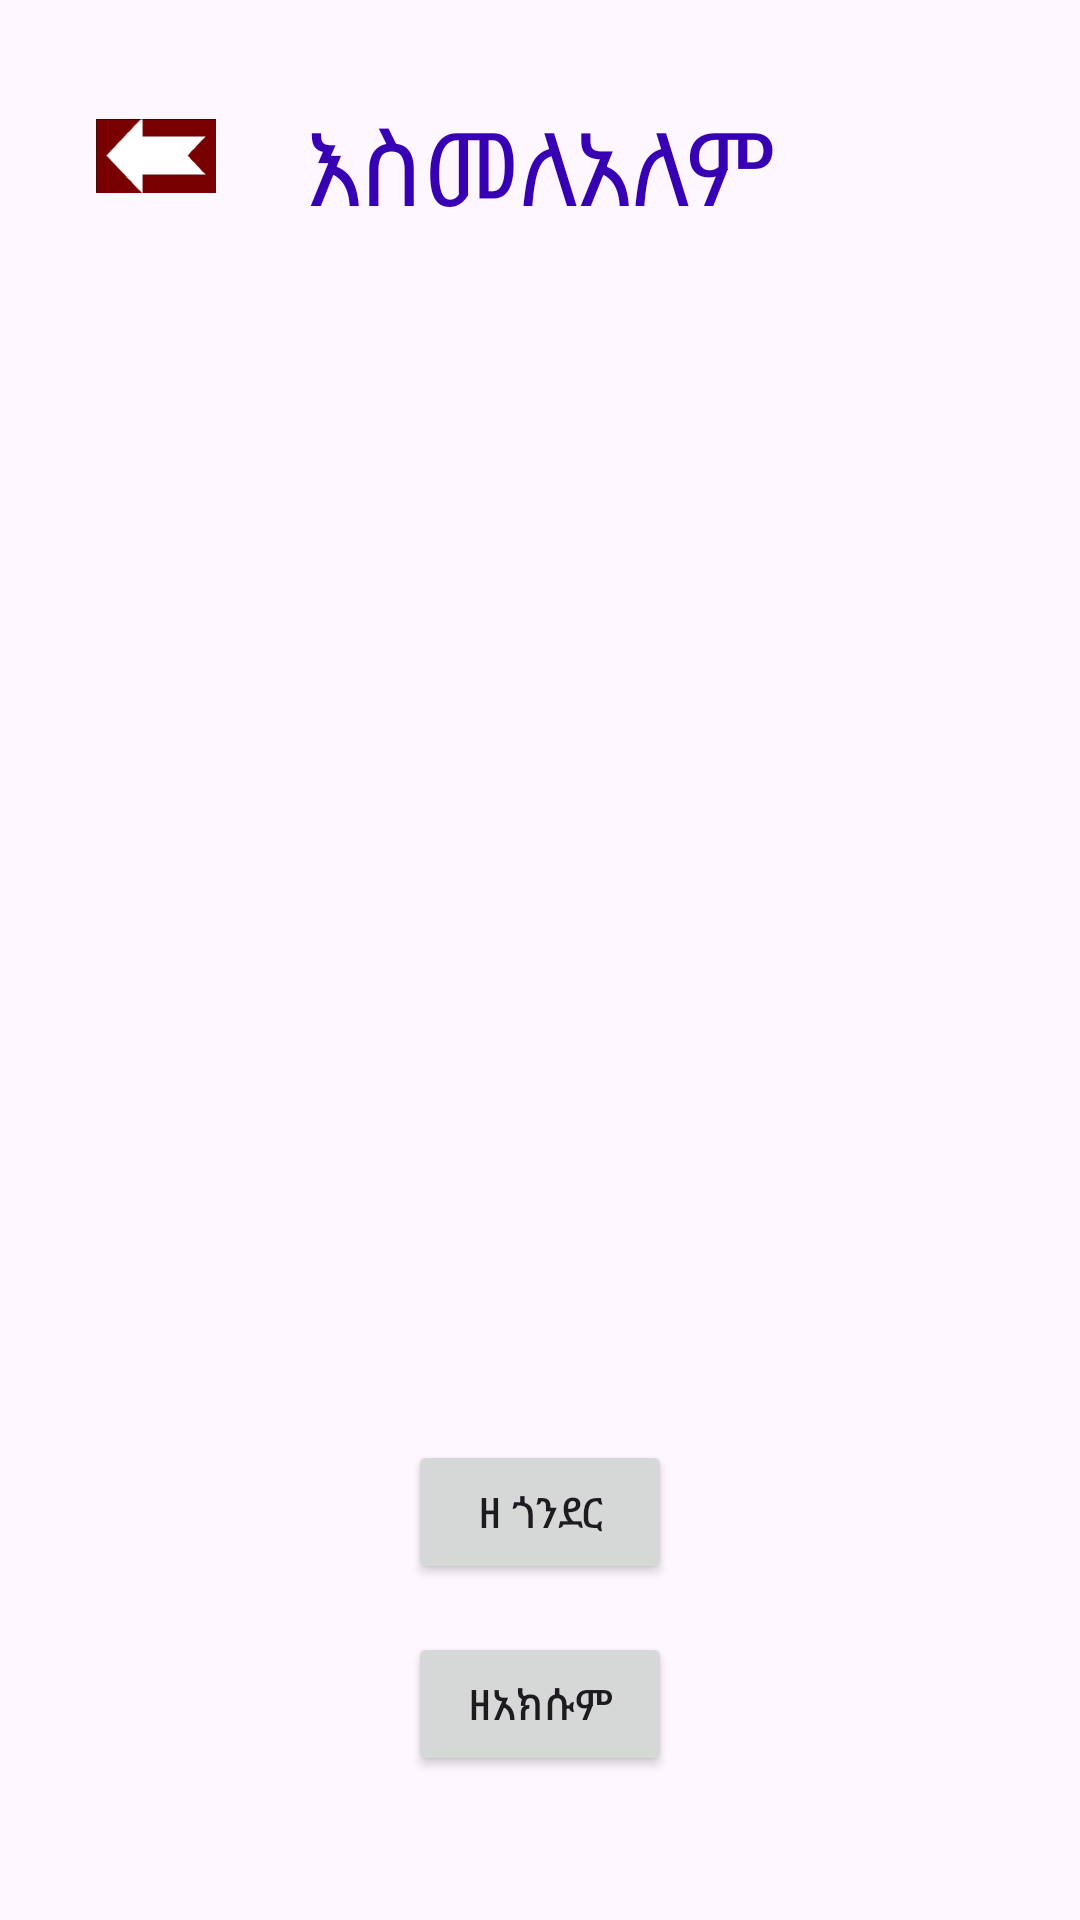

Point at icon controls on the screen. Image size 1080 × 1920, points as [x,y].
Back Button: [156,156]
